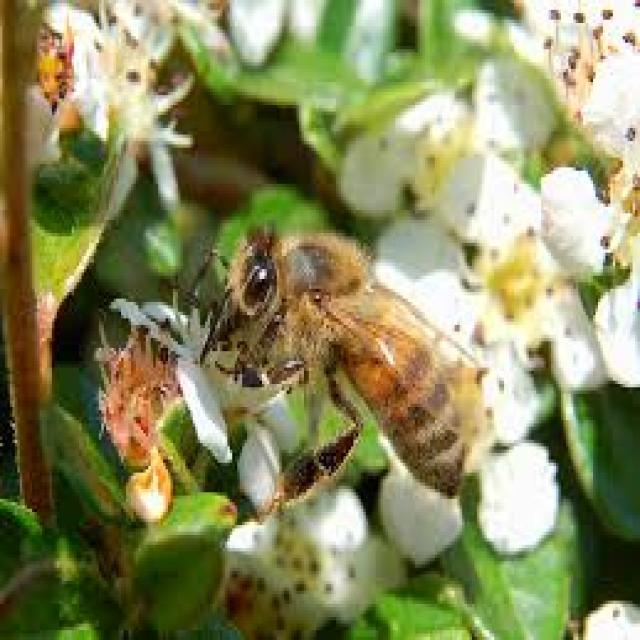Bees: (190, 225, 485, 527)
